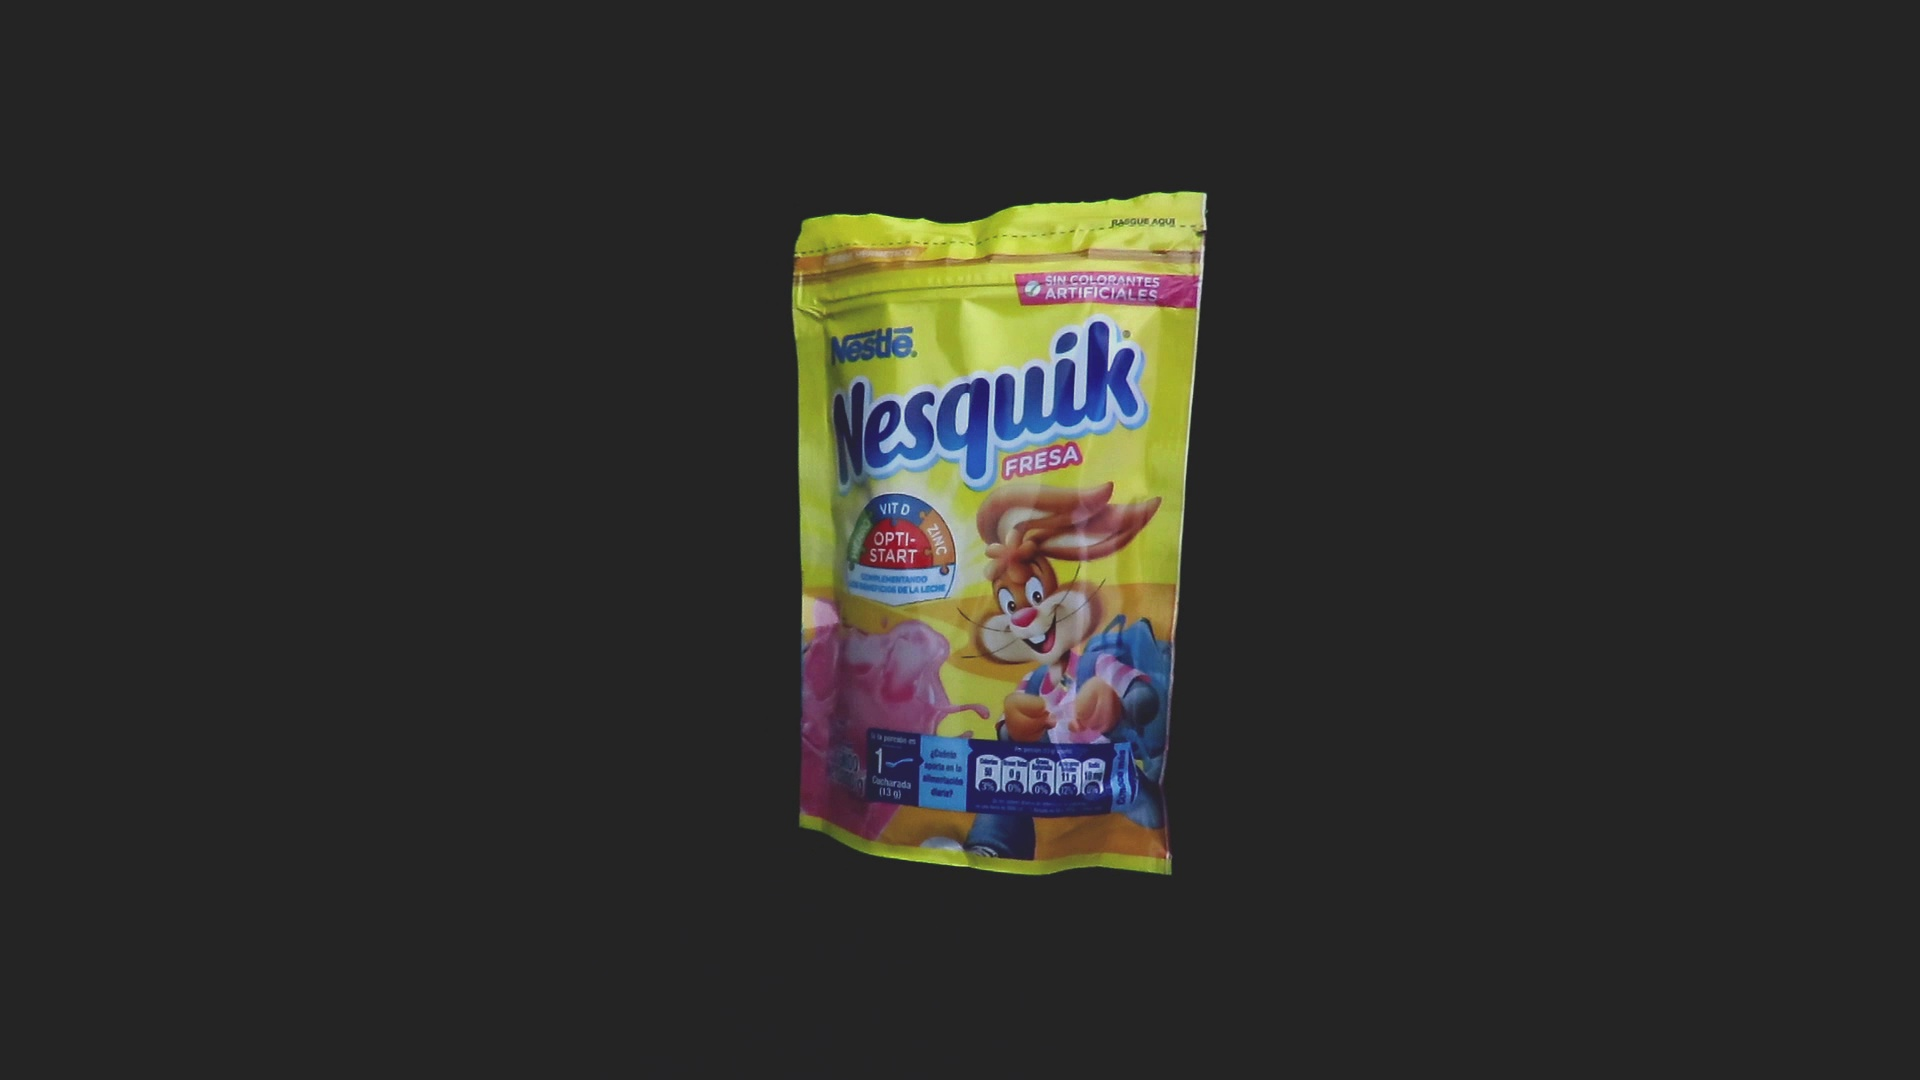COL0170305DYP20000: (787, 186, 1215, 881)
